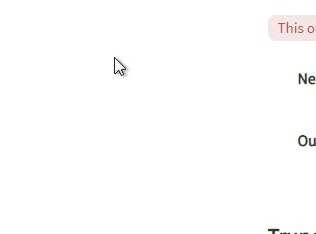cursor: (113, 56, 127, 77)
